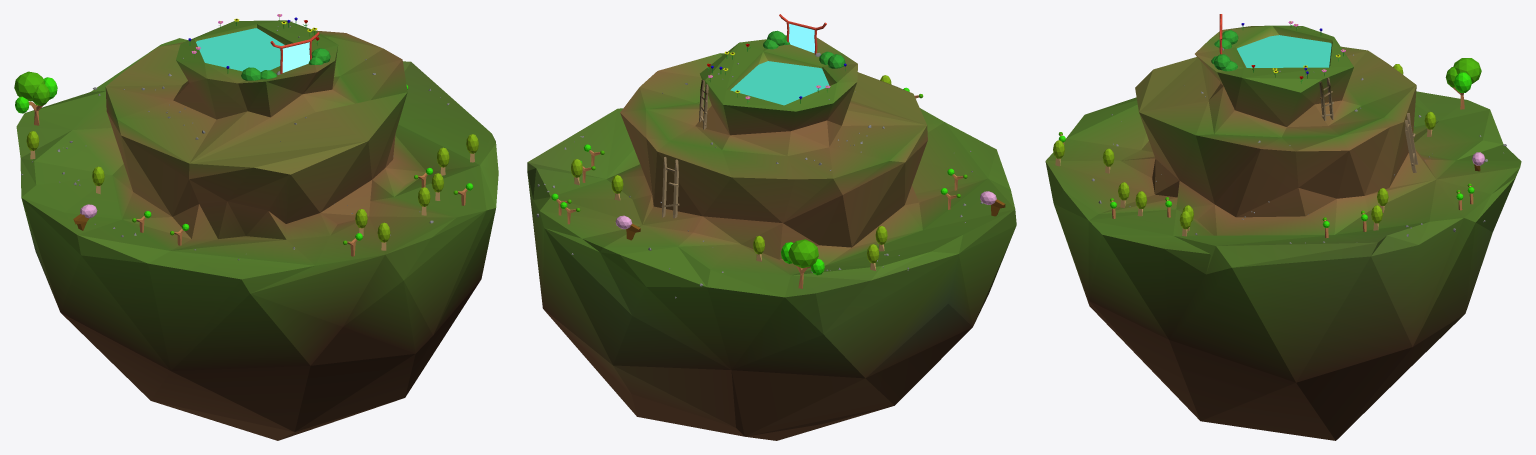
3 views of the same model, side by side, from view 1: azimuth 30°, elevation 25°; view 2: azimuth 150°, elevation 25°; view 3: azimuth 270°, elevation 25° (orthographic). The views are drawn at different scales.
Parts seen in each view (by area): view 1: Island.009, Water.009, Tree1 - 2.051, Magical Portal.009; view 2: Island.009, Water.009, Tree1 - 2.051, Bottom Ladder.009, Magical Portal.009; view 3: Island.009, Water.009, Tree1 - 2.051.
Part boxes in pixels (bbox=[...]): Island.009: bbox=[16, 20, 498, 440]; Water.009: bbox=[196, 28, 284, 71]; Tree1 - 2.051: bbox=[14, 71, 57, 125]; Magical Portal.009: bbox=[282, 42, 309, 72]; Island.009: bbox=[527, 37, 1016, 440]; Water.009: bbox=[730, 61, 829, 105]; Tree1 - 2.051: bbox=[781, 239, 824, 288]; Bottom Ladder.009: bbox=[661, 157, 679, 218]; Magical Portal.009: bbox=[789, 23, 814, 53]; Island.009: bbox=[1045, 25, 1521, 440]; Water.009: bbox=[1237, 35, 1331, 67]; Tree1 - 2.051: bbox=[1445, 58, 1481, 109].
Size of the model in its own units: 41.96 by 39.87 by 43.73.
